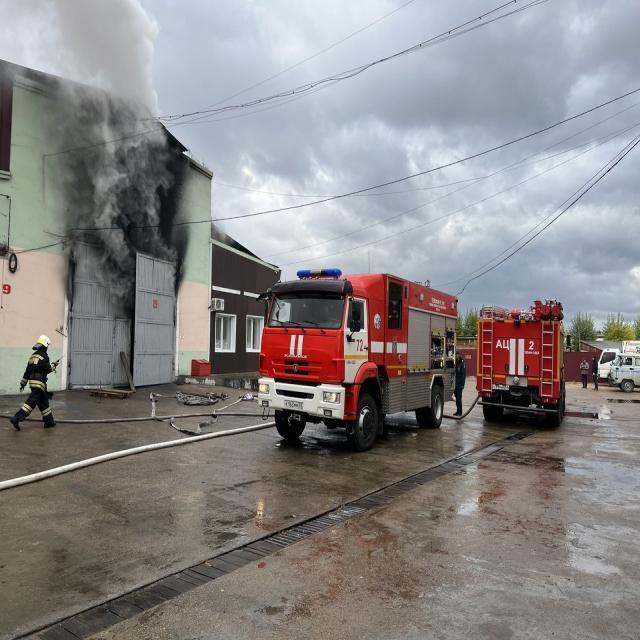Smoke: (38, 44, 184, 312)
